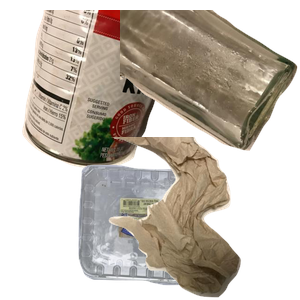glass: (120, 10, 300, 153)
metal: (20, 10, 199, 172)
plastic: (76, 162, 264, 300)
trash: (103, 137, 300, 300)
